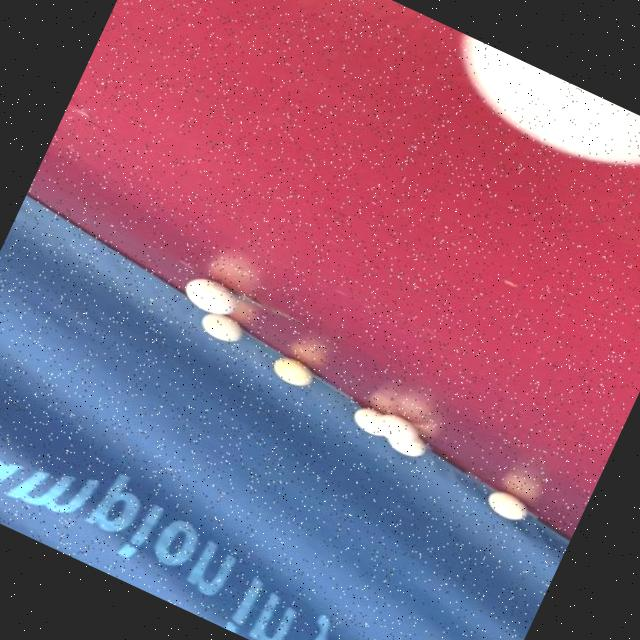ping-pong-ball: (174, 264, 252, 330), (260, 344, 327, 400), (186, 298, 253, 353), (479, 483, 539, 533)
